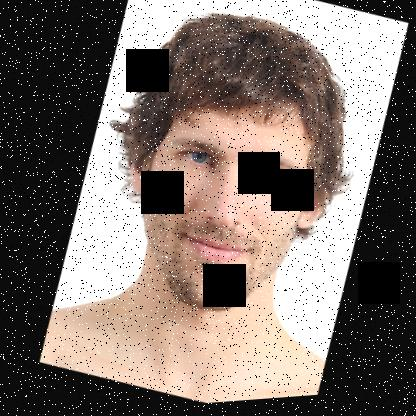Male: (82, 56, 358, 343)
